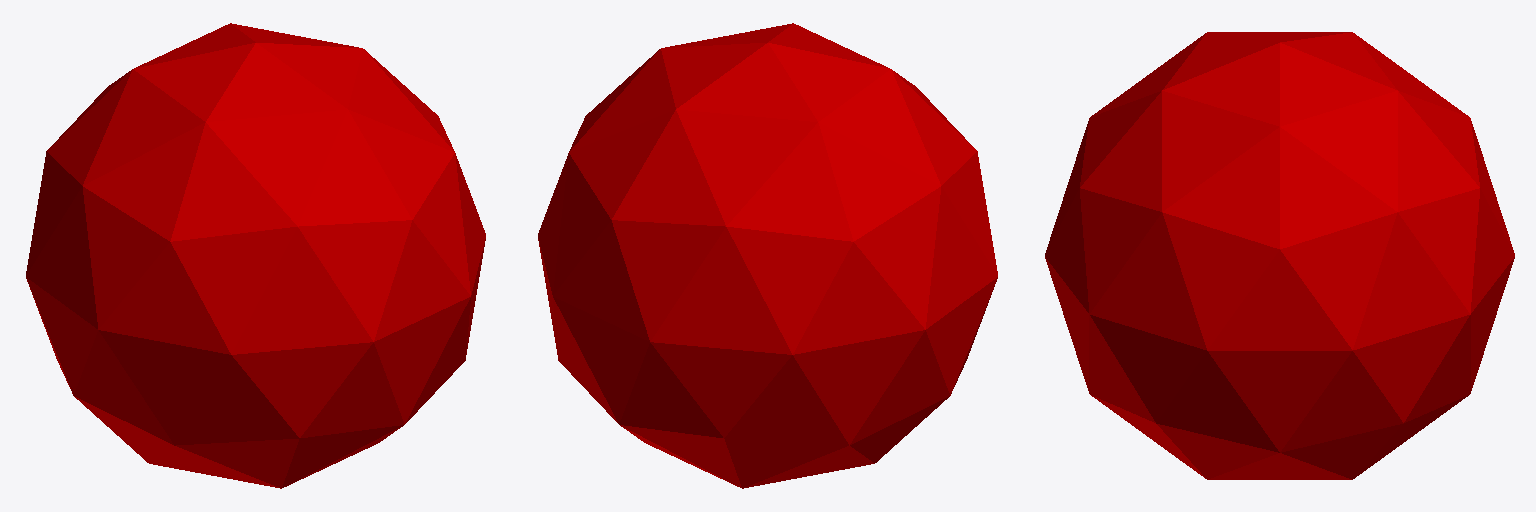
Rendered from ico-red.obj.
The picture shows the model from 3 angles: view 1: azimuth 30°, elevation 25°; view 2: azimuth 150°, elevation 25°; view 3: azimuth 270°, elevation 25°; orthographic projection.
Parts seen in each view (by area): view 1: Icosphere; view 2: Icosphere; view 3: Icosphere.
Boxes of the visible parts, x1,y1,x2,y2 form: Icosphere: [26, 23, 485, 488]; Icosphere: [538, 23, 997, 488]; Icosphere: [1045, 32, 1514, 479].
Bounding box in the file's own units: 1.9 × 2 × 2.